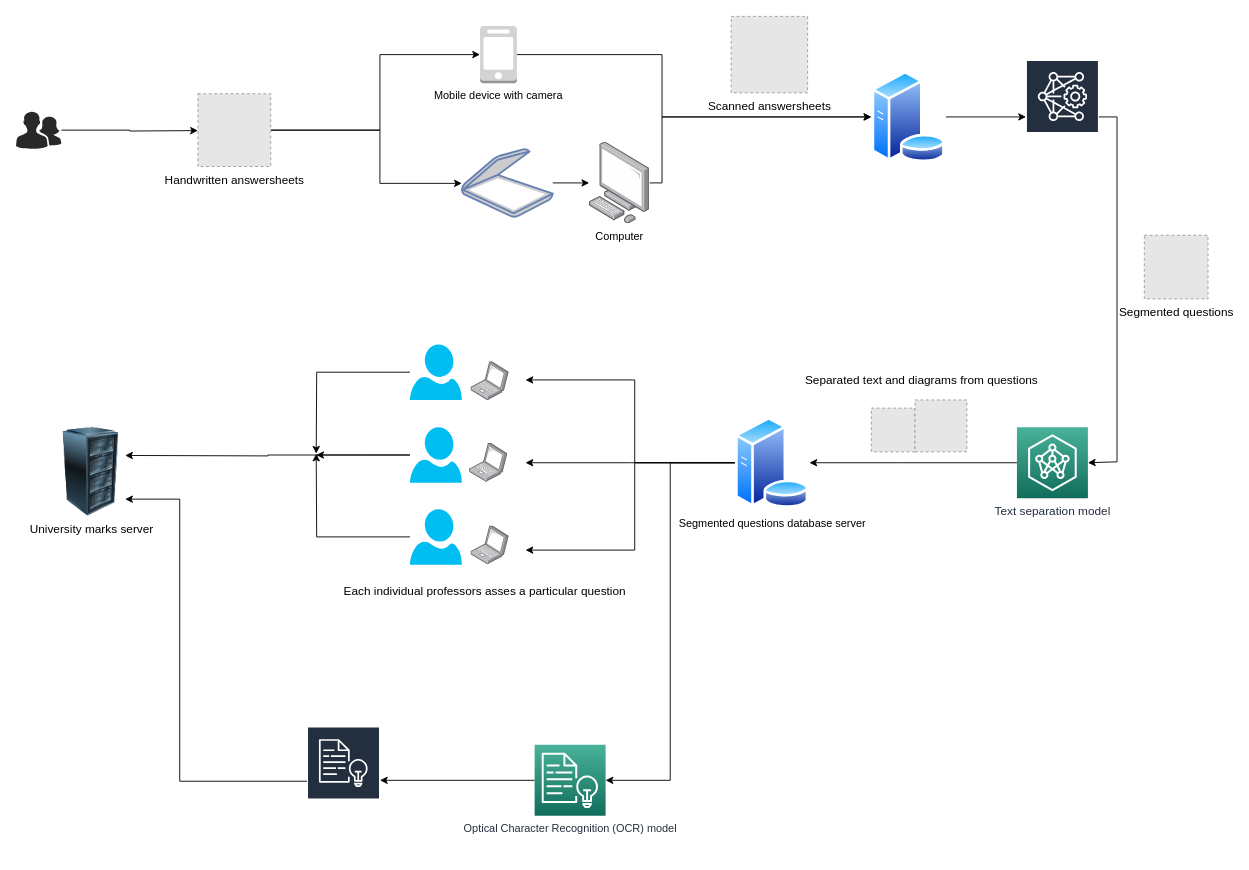
The diagram is 1249 pixels wide and 870 high, and some of its shapes have lost their labels. Grey dashed boxes stand in for pictures. The centre of each missing label's shape, as x and y in pixels:
"Answer sheet database server" belongs at [908,116].
"Natural Language Processing model" belongs at [343,790].
"Question segmentation model" belongs at [1062,116].
"Scanner" belongs at [506,182].
"Students" belongs at [38,129].
